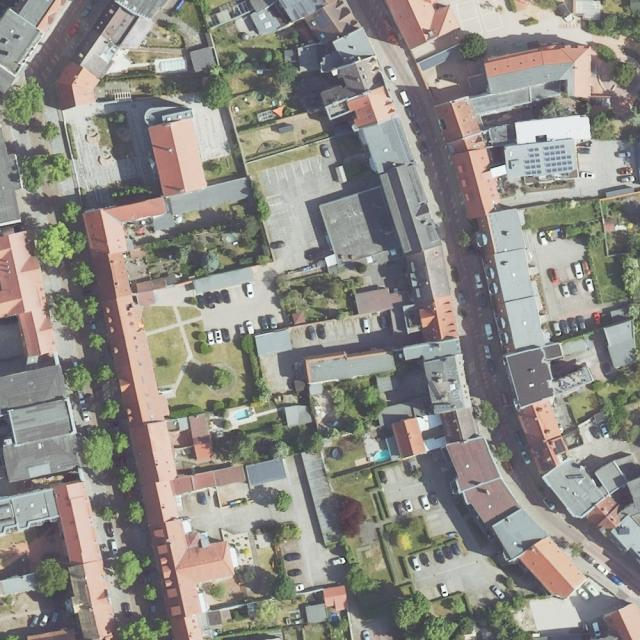PV: (524, 144, 573, 175), (419, 46, 462, 71), (534, 444, 554, 473), (552, 438, 566, 455)
ST: (313, 10, 331, 29)
